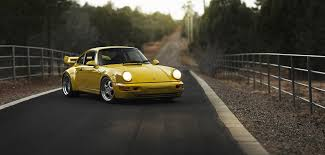car: (60, 44, 185, 106)
